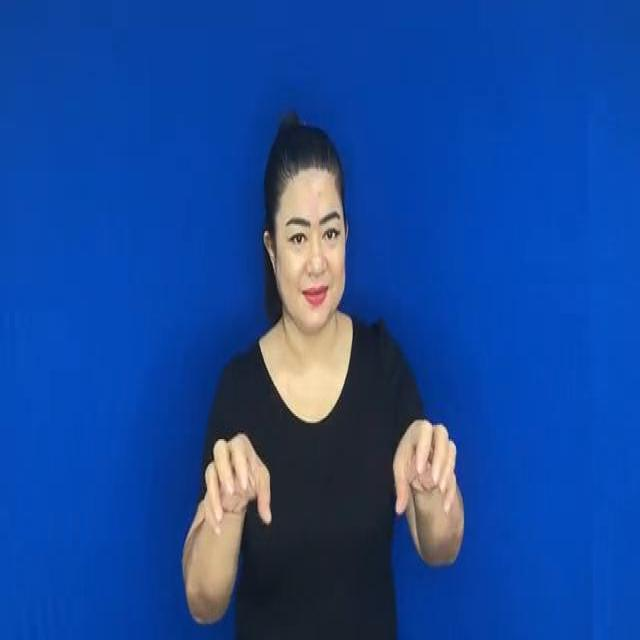egg: (190, 410, 469, 546)
